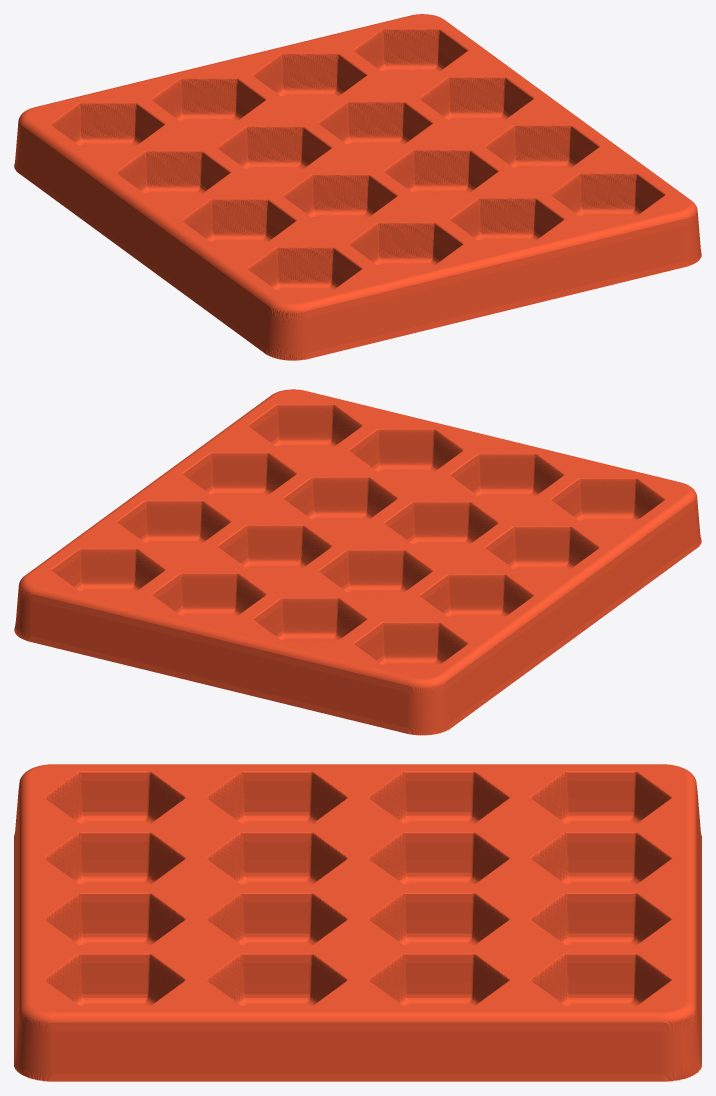
The model's file is mold.glb.
3 renders of one model, top to bottom at view 1: azimuth 30°, elevation 25°; view 2: azimuth 150°, elevation 25°; view 3: azimuth 270°, elevation 25°, orthographic. The views are drawn at different scales.
Parts seen in each view (by area): view 1: geometry_0; view 2: geometry_0; view 3: geometry_0.
Part boxes in pixels (x1,y1,x2,y2): geometry_0: (14, 14, 701, 360); geometry_0: (14, 389, 701, 735); geometry_0: (14, 764, 701, 1081).
Bounding box in the file's own units: 0.1402 × 0.0159 × 0.1569.
